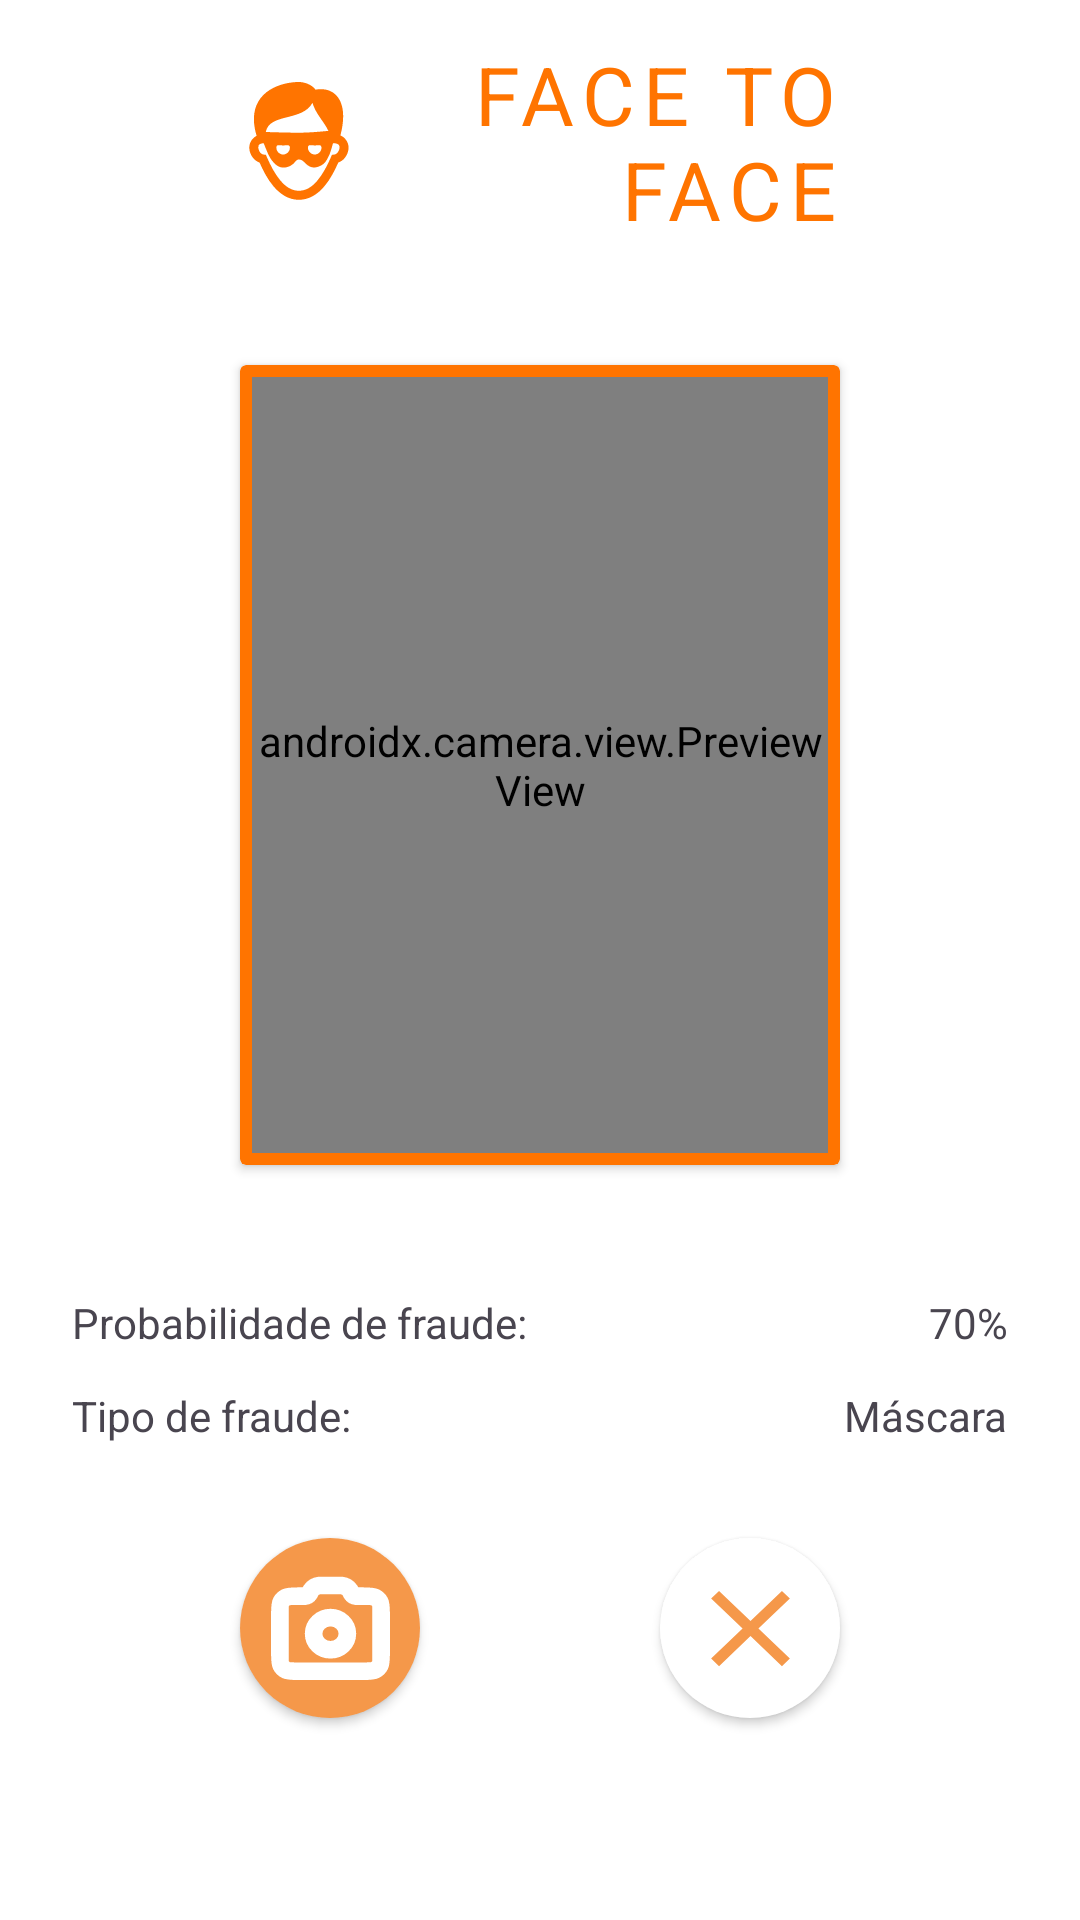

Where icons sit on this 1080w x 1920h app screen, as (x1, y1, x2, y2):
camera: (240, 1538, 420, 1718)
clear: (661, 1591, 840, 1718)
